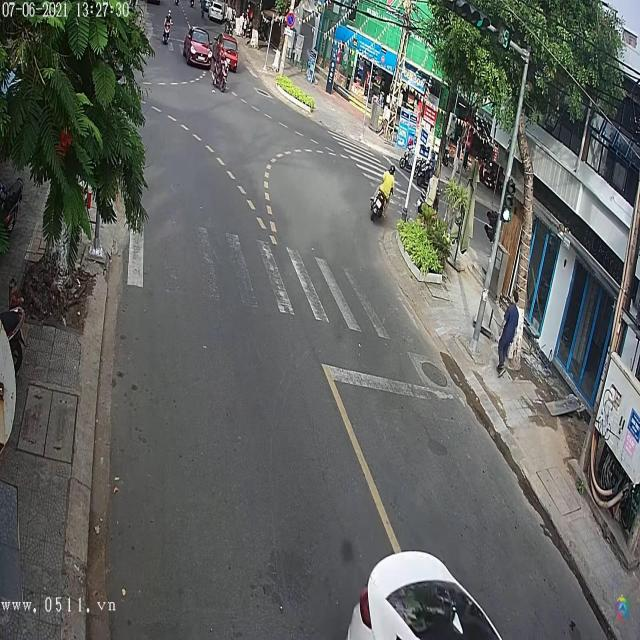car: (183, 29, 215, 68)
motorcycle: (371, 175, 392, 227), (210, 52, 233, 94)
